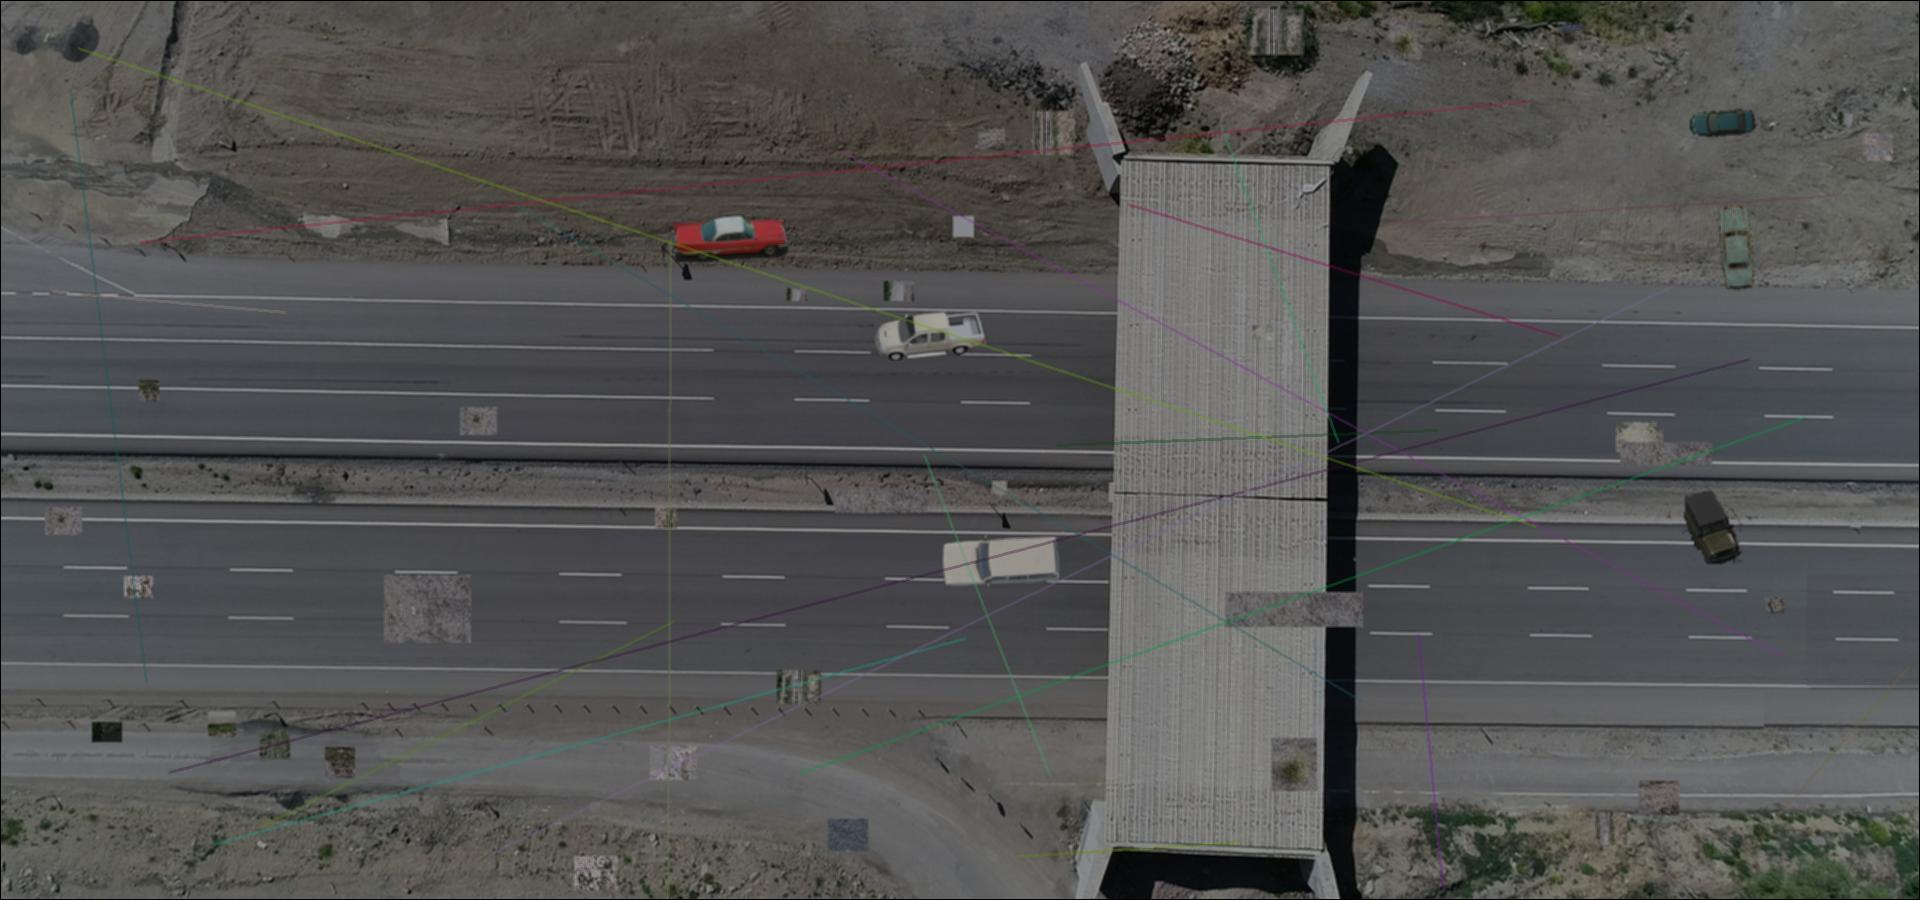arac: (940, 534, 1062, 587), (876, 306, 989, 360), (671, 216, 789, 262), (1682, 491, 1742, 564), (1718, 203, 1760, 293), (1689, 109, 1755, 137)
